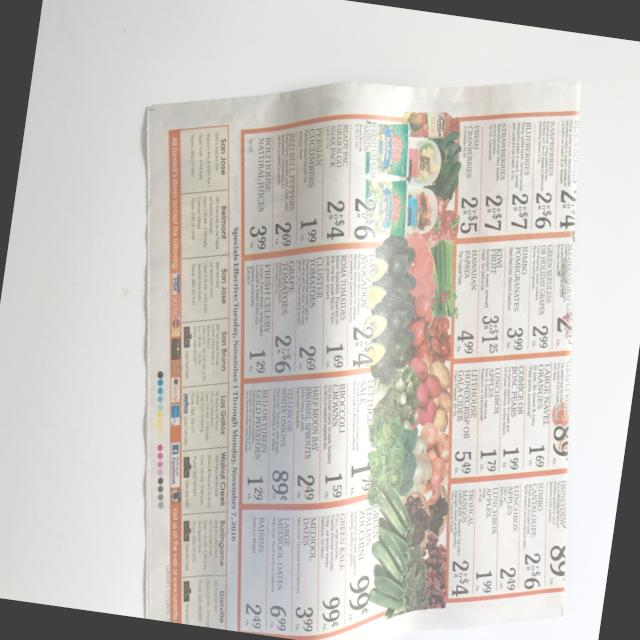Paper: (77, 24, 640, 640)
